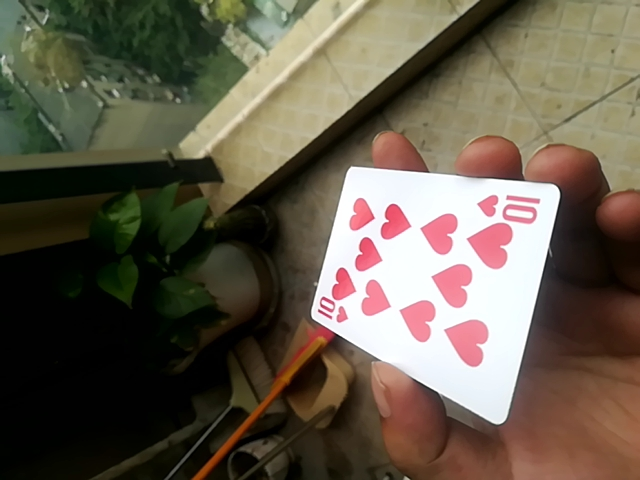hx 10: (306, 162, 554, 424)
